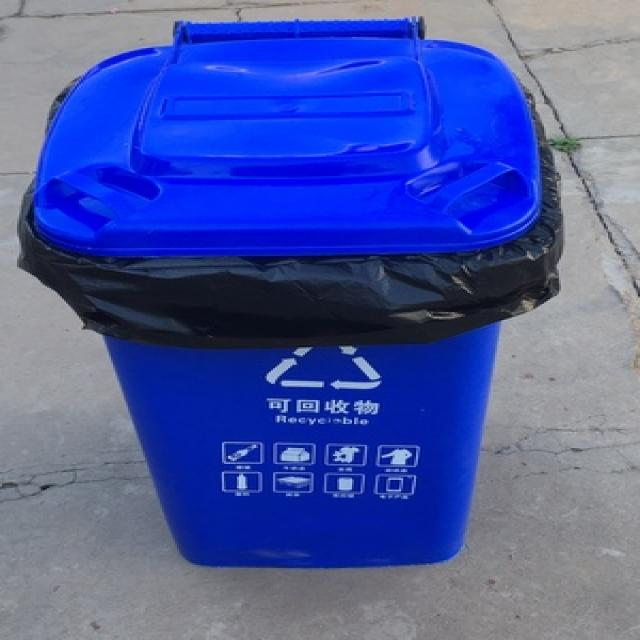ash bin: (17, 16, 559, 568)
